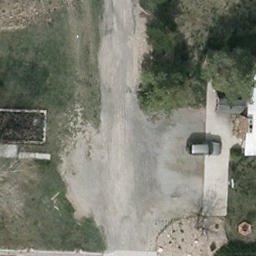car: (183, 141, 222, 155)
